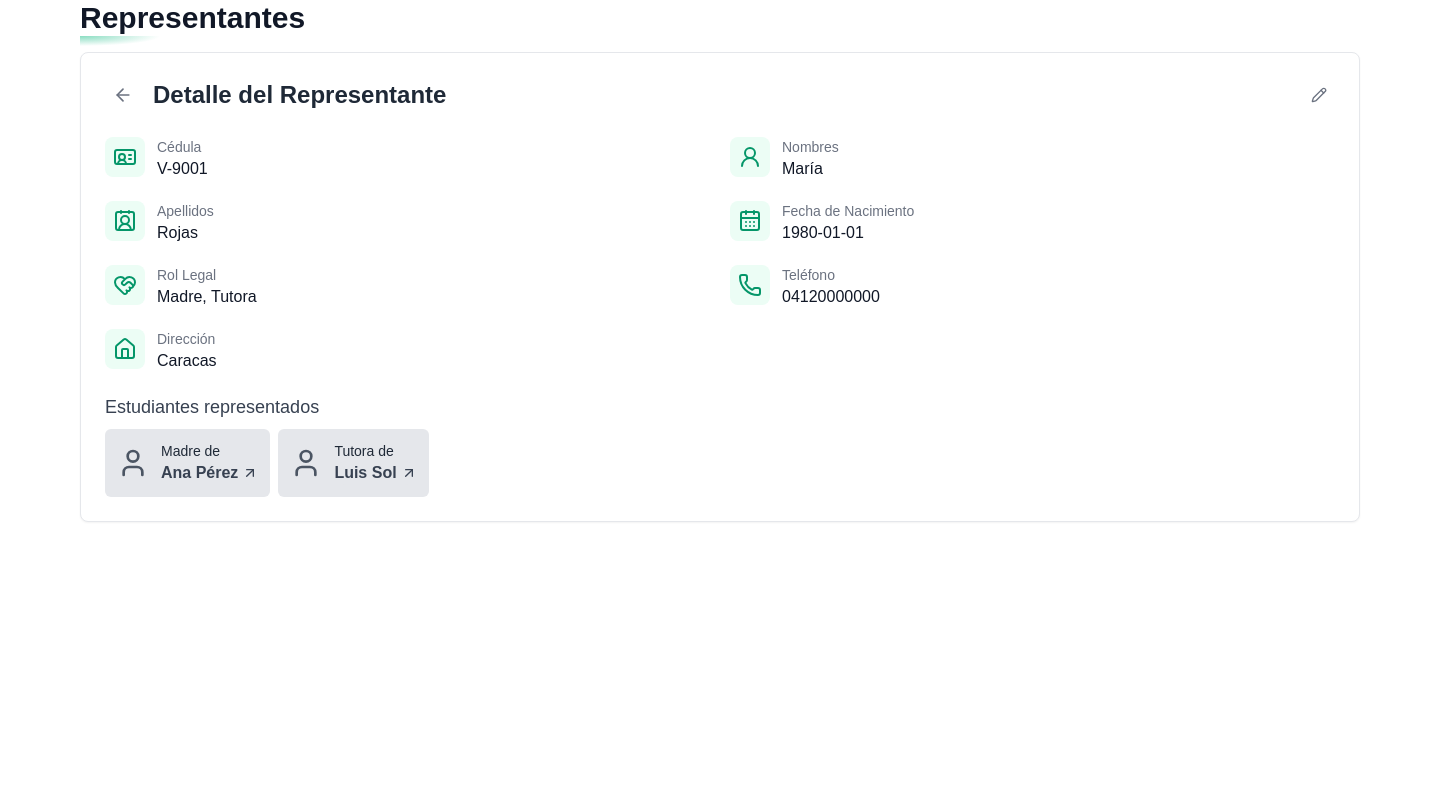
Test: Representantes page › edits guardian fields with the cédula disabled and refreshes the displayed text
This screenshot has width=1440, height=810.
Click the button named "Editar representante" at (1319, 95), box top-left (1303, 79), bottom-right (1335, 111)
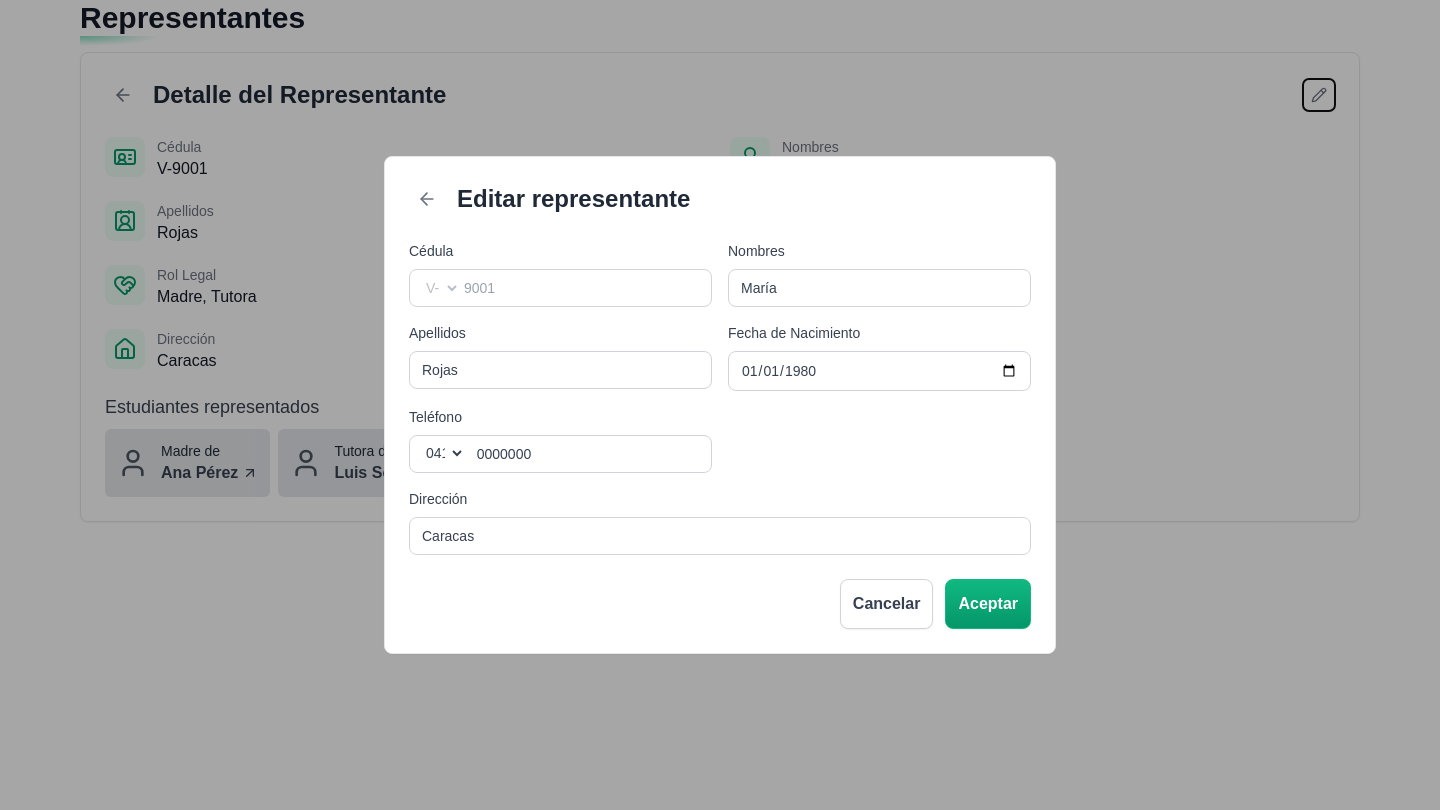
Expected: the field named "Cédula" is disabled, top-left (460, 278), bottom-right (703, 298)
Expected: the dropdown named "Cédula: tipo" is disabled, top-left (418, 278), bottom-right (460, 298)
Replace the text in the field named "Teléfono" with "9999999" at (588, 454), box top-left (473, 444), bottom-right (703, 464)
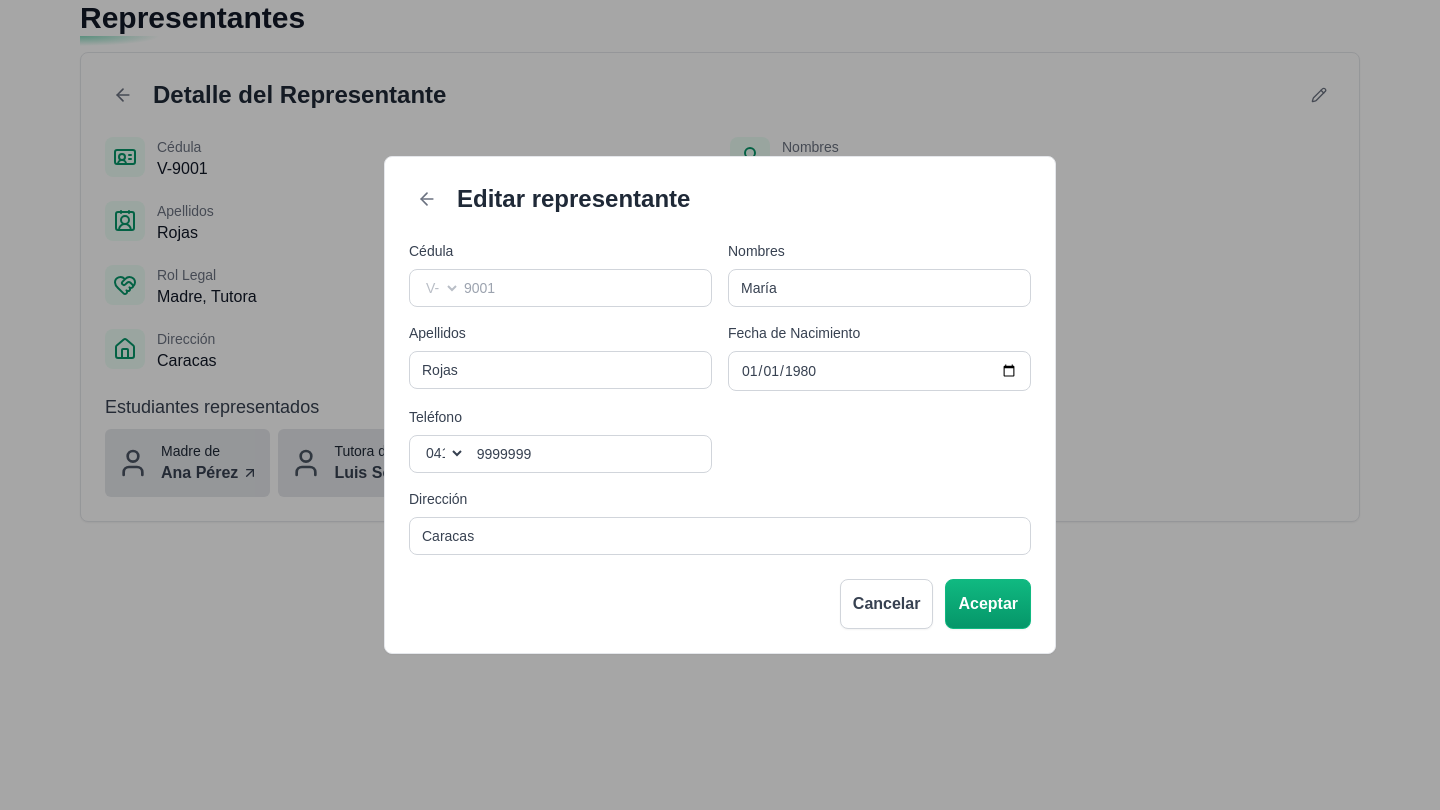
Select "0426 — Movilnet" in the dropdown named "Teléfono: prefijo" at (441, 453), box top-left (418, 444), bottom-right (465, 462)
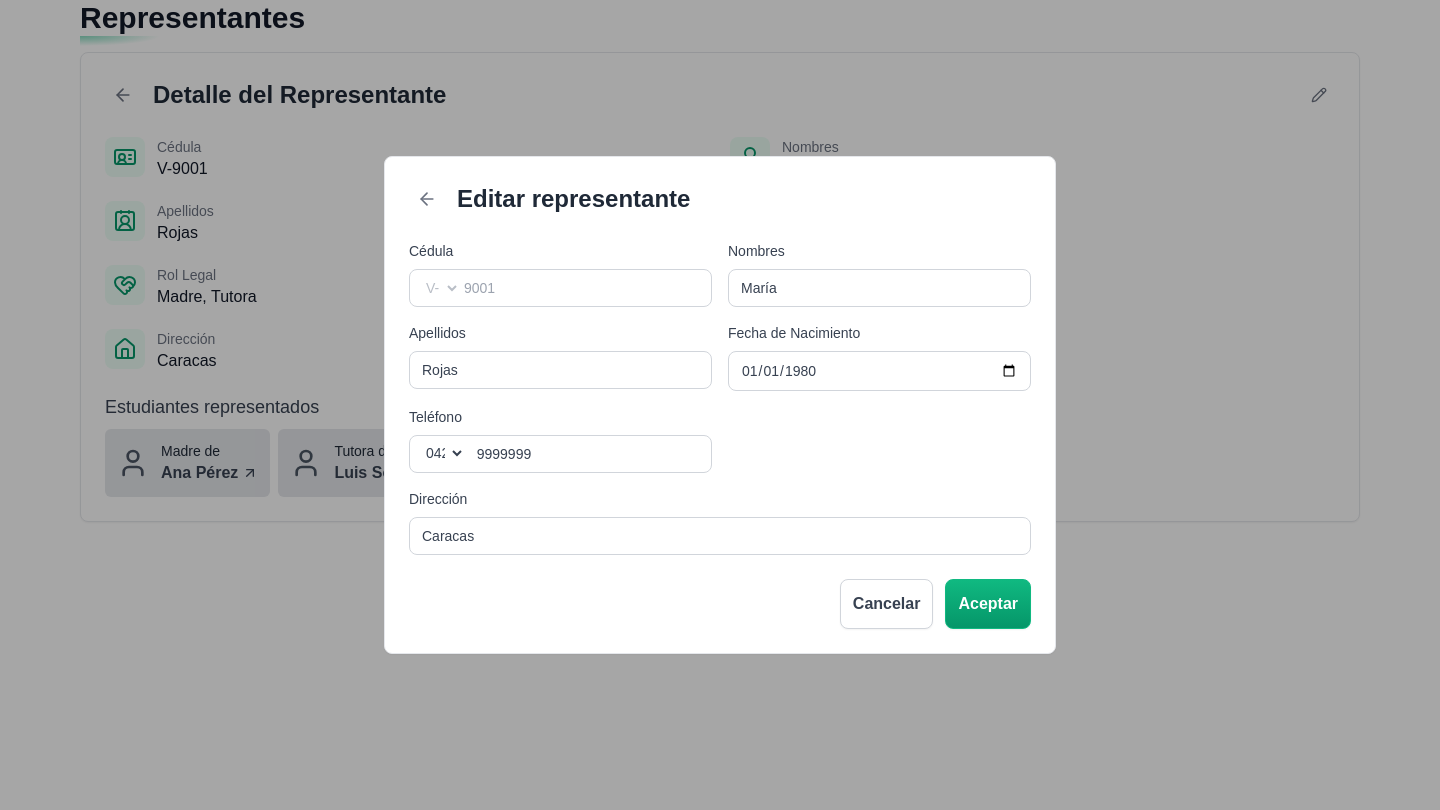
Click the button "Aceptar" at (988, 604), box top-left (945, 579), bottom-right (1031, 629)
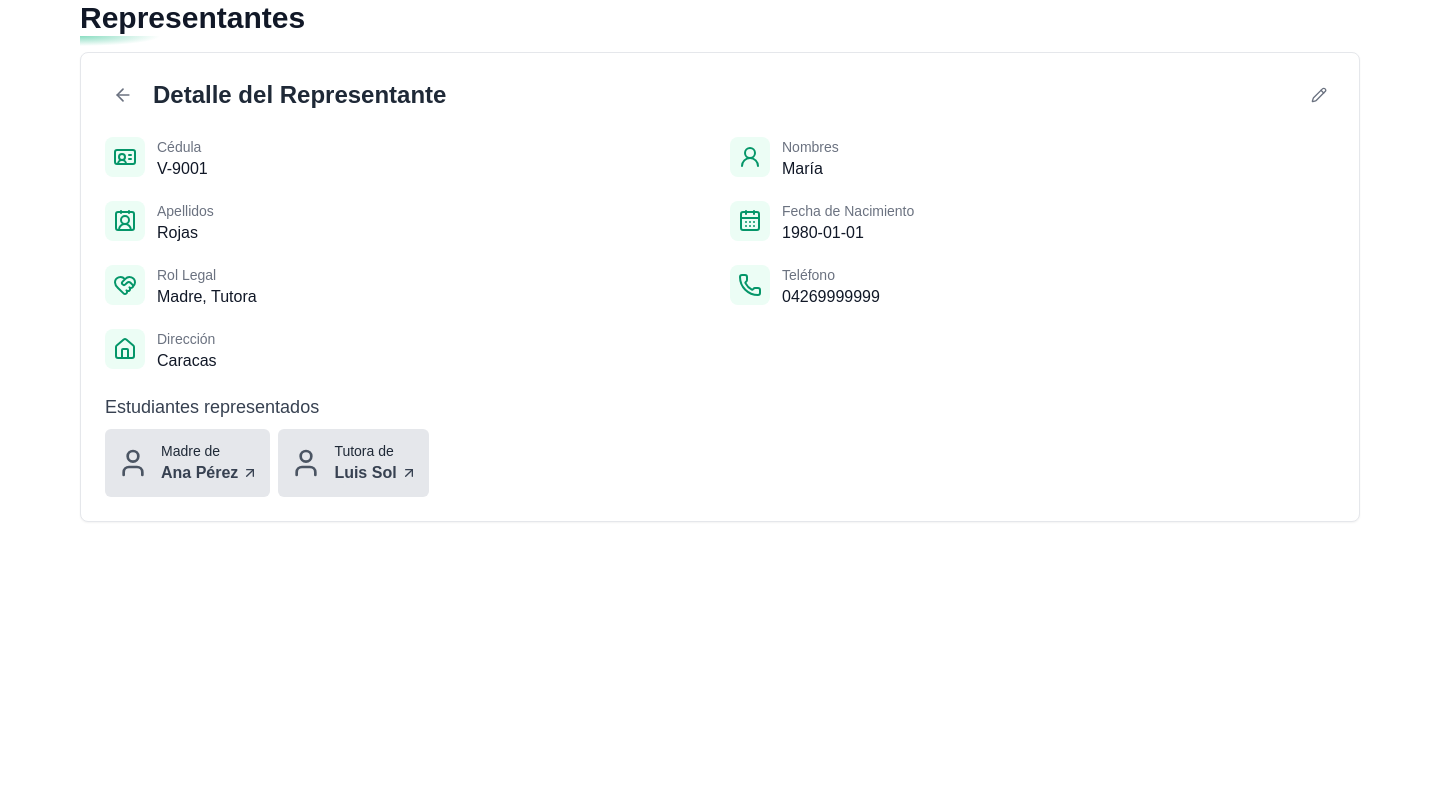
Expected: the link "Madre de Ana Pérez" is shown, top-left (105, 429), bottom-right (270, 497)
Expected: the dialog is gone
Expected: the text "04269999999" is shown, top-left (782, 285), bottom-right (880, 309)
